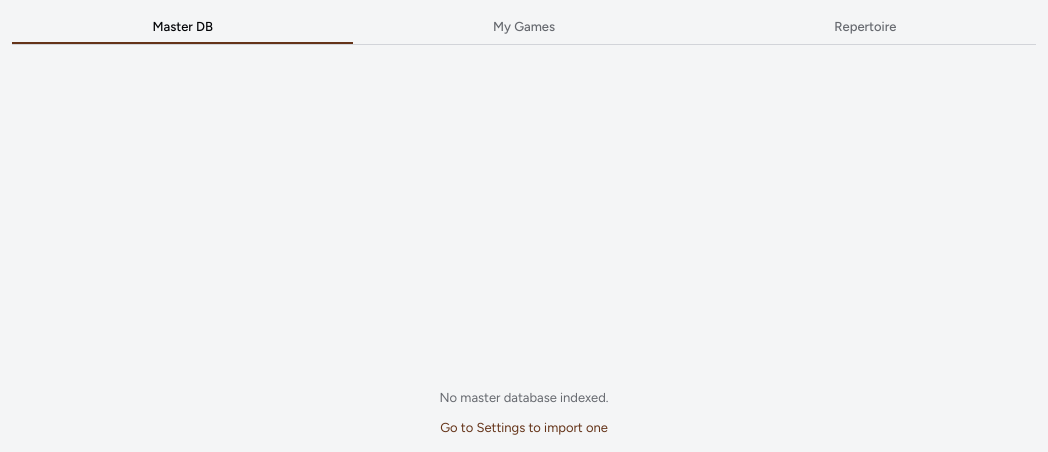
Test: ExplorerPanelContent › switches to My Games tab on click
The width and height of the screenshot is (1048, 452).
Click the button "My Games". click: (524, 28)
box: [353,12,695,44]
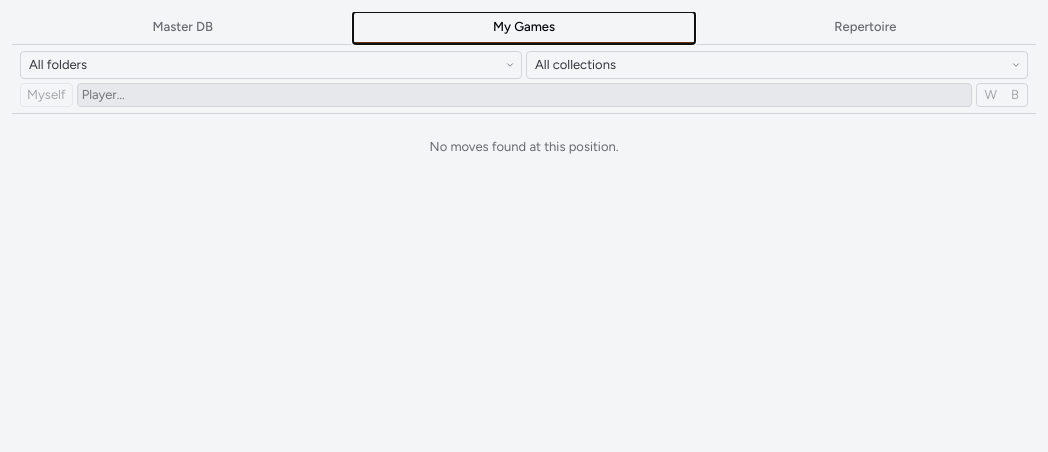
expect the text "All folders" is shown: met, box [29,56,87,74]
